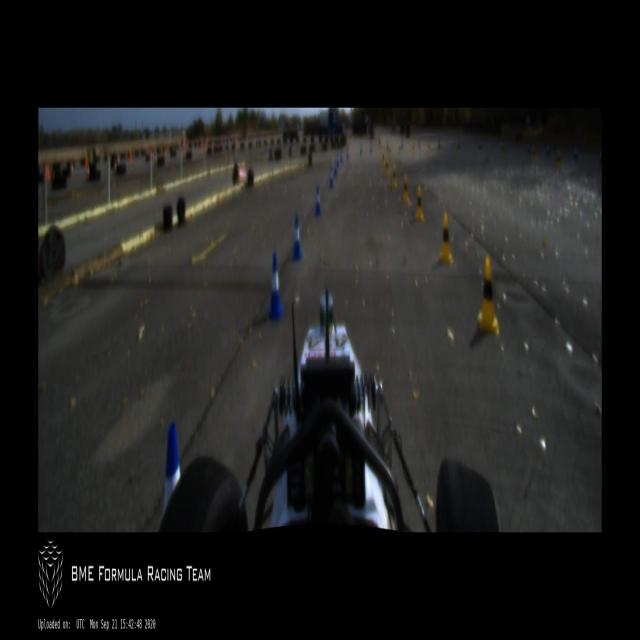blue_cone: (164, 422, 180, 512), (268, 252, 283, 321), (292, 214, 302, 262), (314, 184, 322, 216), (328, 168, 334, 188), (334, 158, 337, 177), (336, 152, 339, 168), (341, 148, 343, 162)
yellow_cone: (477, 257, 499, 334), (440, 214, 453, 263), (416, 185, 424, 221), (403, 175, 410, 204), (556, 148, 562, 169), (392, 165, 397, 188), (385, 158, 389, 177), (382, 149, 385, 166)
